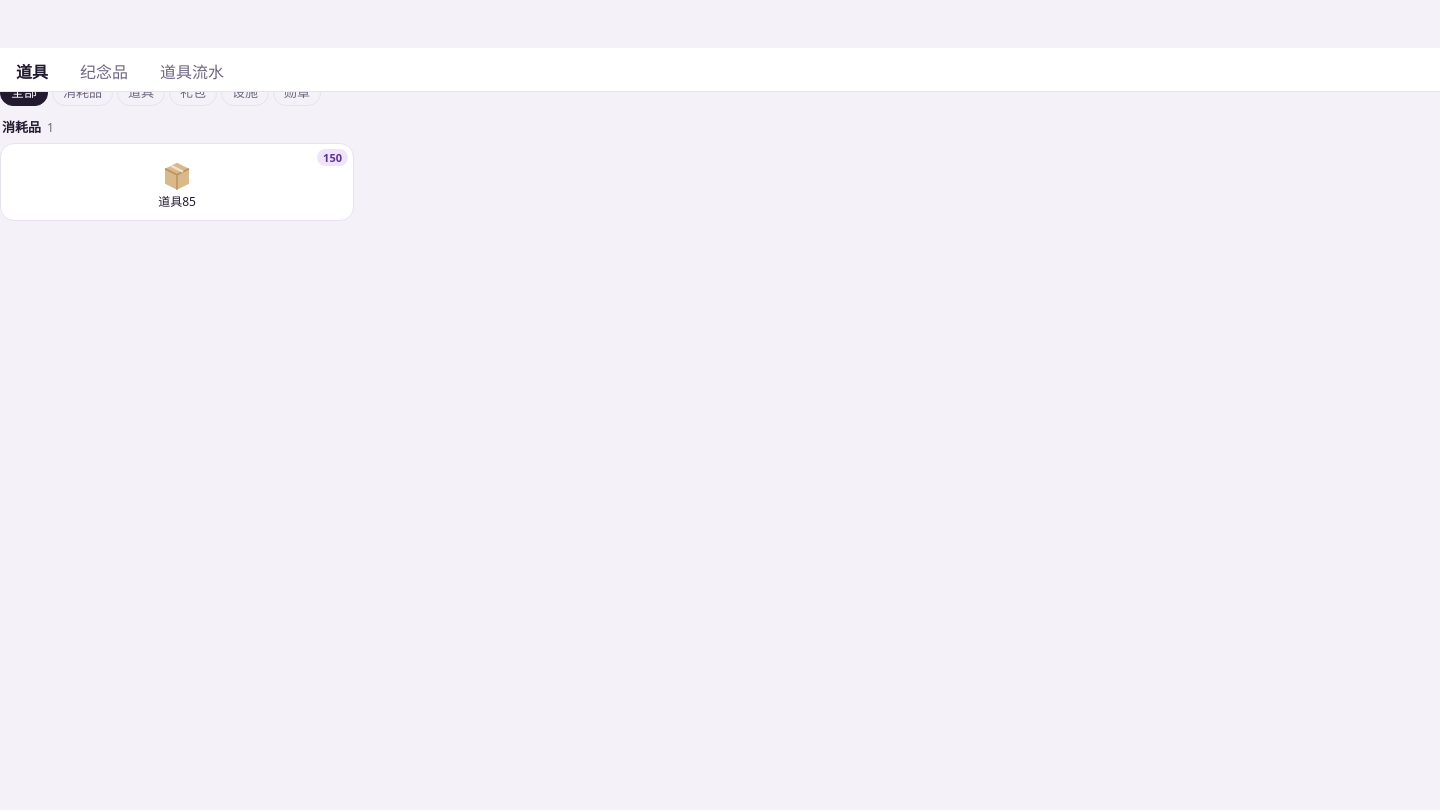
it: 仓库套用新控件（界面改版 P4） › “全部”把数量填成一次最多能用的数
The width and height of the screenshot is (1440, 810).
Click the button with test id "store-item-85".
click(177, 182)  # box [0,143,354,221]
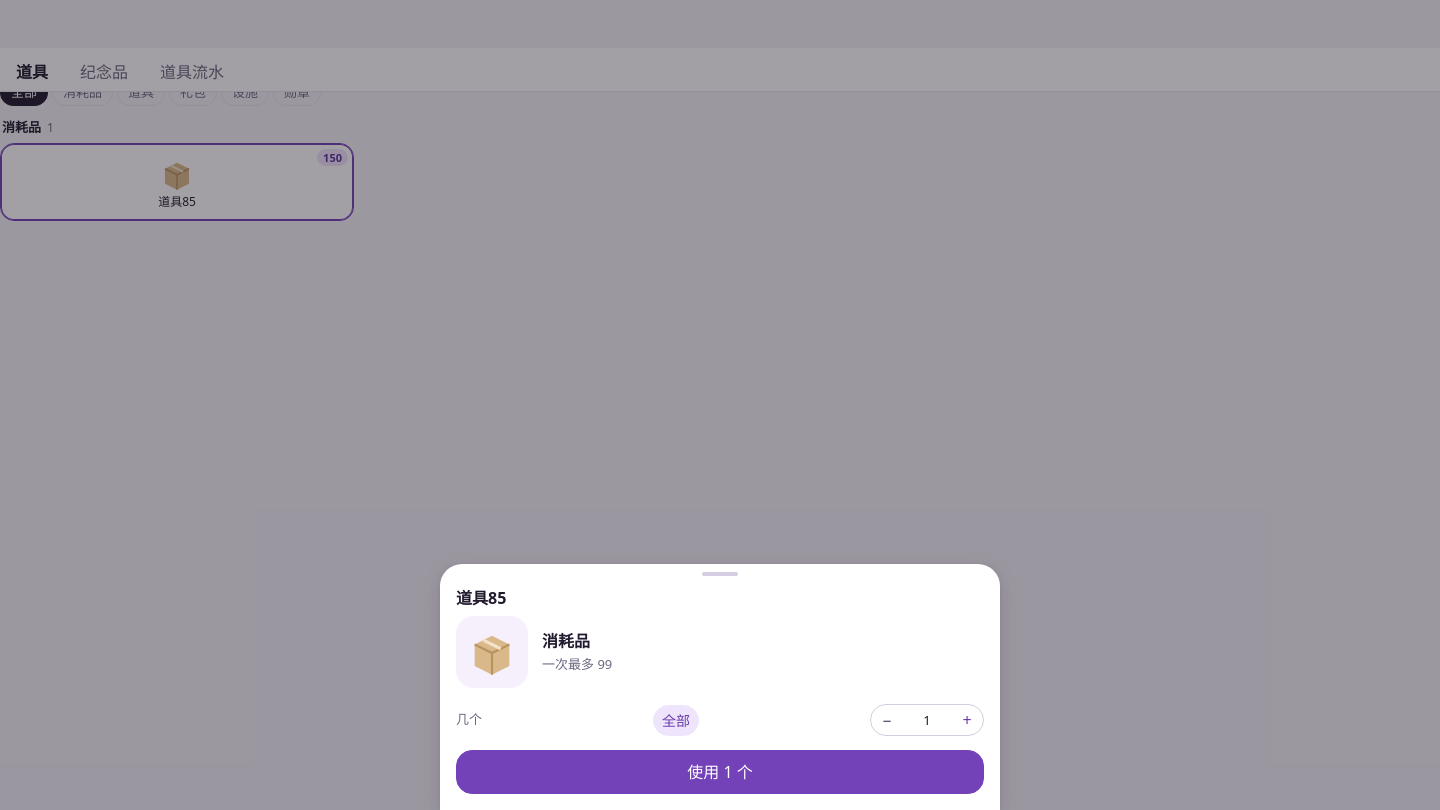
Click the button with test id "store-qty-all".
click(676, 720)  # box [653,704,699,736]
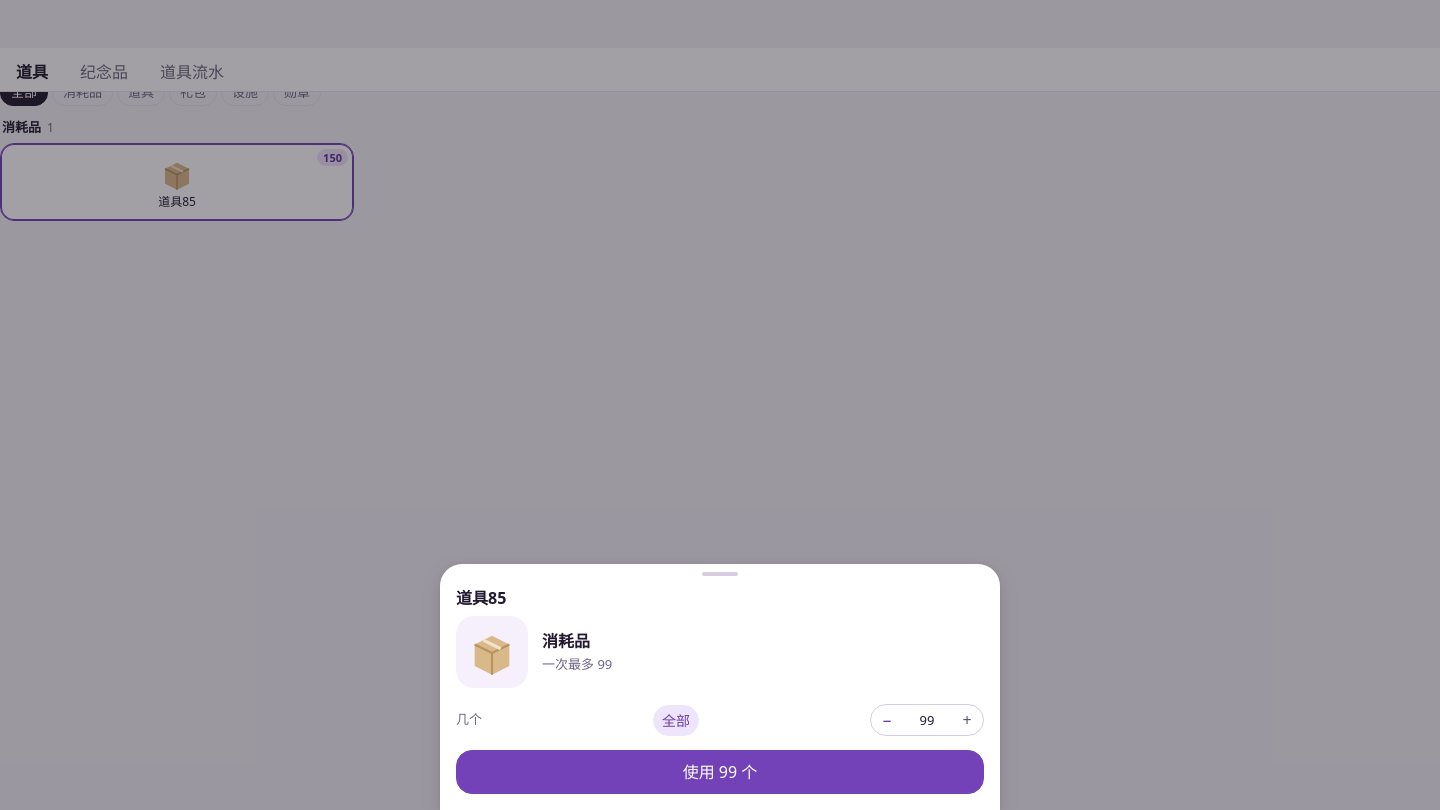
Result: the number field with test id "store-qty" holds "99" at [903,705,951,735]
Result: the button with test id "store-use" reads "使用 99 个" at [456,750,984,794]
